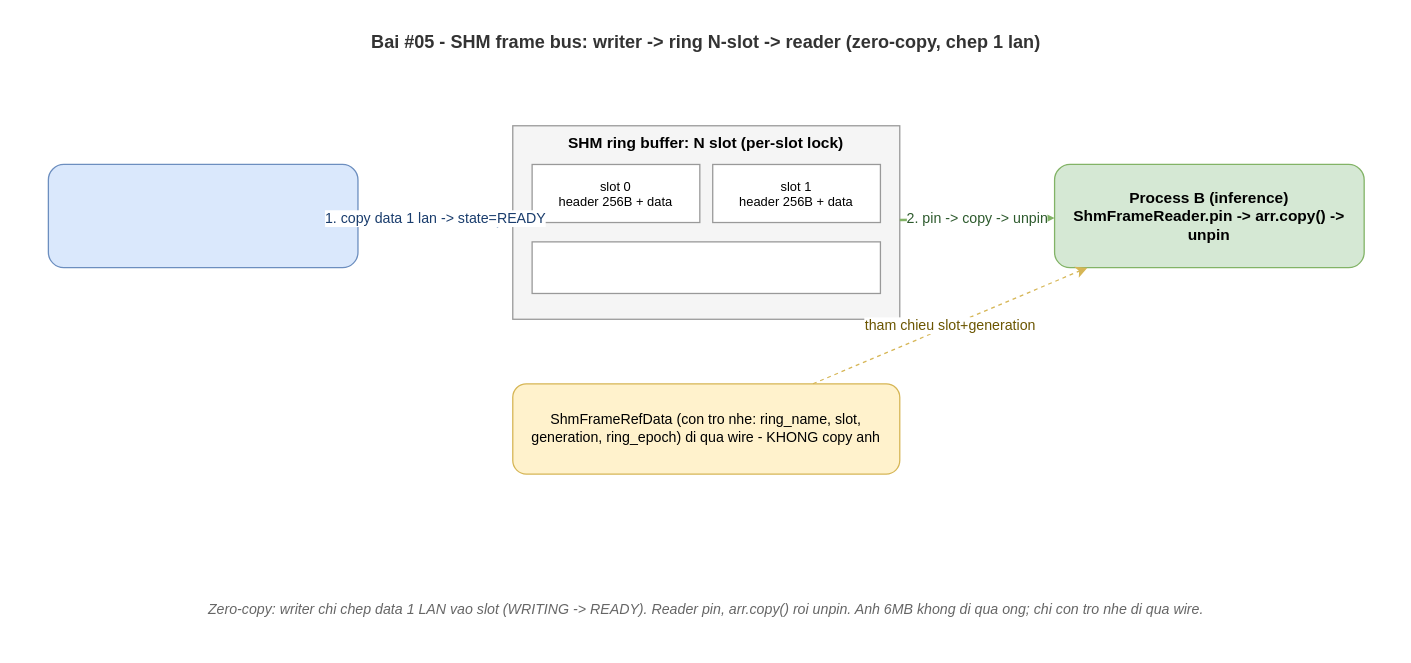
This 1411x663 diagram has some shape labels left out. The box of each missing label's shape, as (x1, y1, x2, y2) in pixels:
... slot N-1: (531, 241, 880, 293)
Process A (camera) ShmFrameWriter.write(frame): (47, 163, 358, 268)
